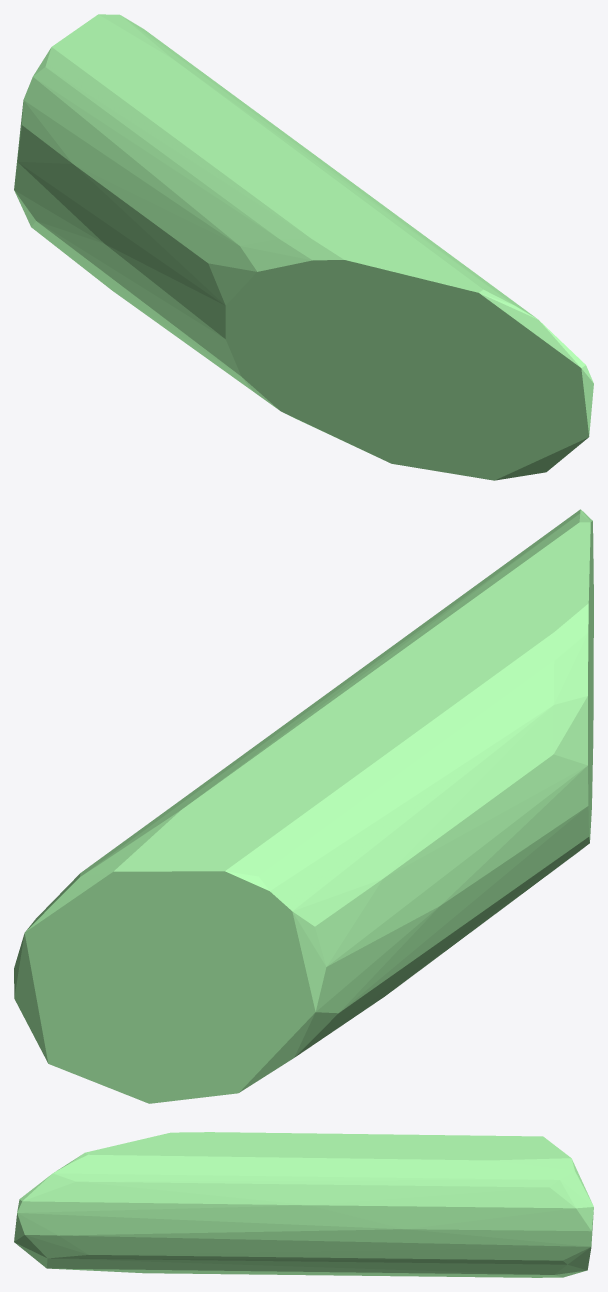
Rendered from palle_scrotali_buone_L_link3_respondable_coll_1.dae.
The picture shows the model from 3 angles, top to bottom: view 1: azimuth 30°, elevation 25°; view 2: azimuth 150°, elevation 25°; view 3: azimuth 270°, elevation 25°; orthographic projection. The views are drawn at different scales.
Visible parts, largest first — view 1: Node_000002334E246040; view 2: Node_000002334E246040; view 3: Node_000002334E246040.
Part boxes in pixels (x1,y1,x2,y2): Node_000002334E246040: (14,14,593,480); Node_000002334E246040: (14,509,593,1103); Node_000002334E246040: (14,1132,593,1277).
Bounding box in the file's own units: 0.1135 × 0.1082 × 0.4589.
